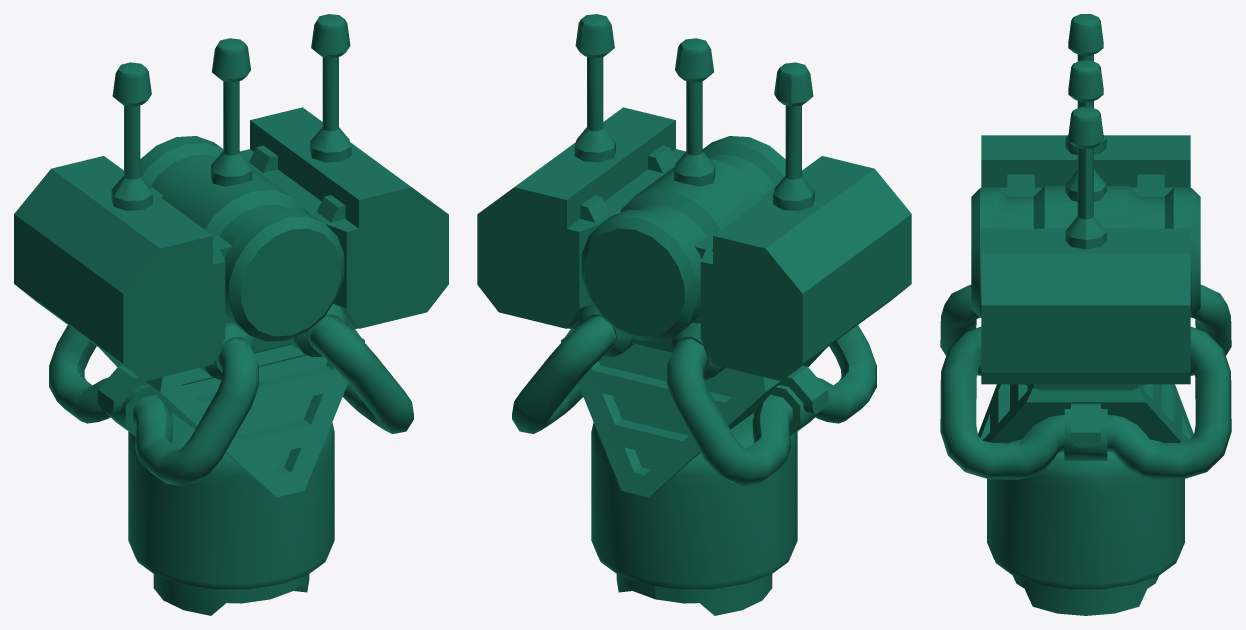
The model's file is obj_survivalobject_controlstationkey03.fbx.
3 renders of one model, left to right at view 1: azimuth 30°, elevation 25°; view 2: azimuth 150°, elevation 25°; view 3: azimuth 270°, elevation 25°, orthographic. The views are drawn at different scales.
Visible parts, largest first — view 1: part2_lp.002; view 2: part2_lp.002; view 3: part2_lp.002.
Boxes of the visible parts, <box> form: part2_lp.002: <box>14,14,448,615</box>; part2_lp.002: <box>477,14,911,615</box>; part2_lp.002: <box>940,14,1231,615</box>.
Bounding box in the file's own units: 3.64 × 5.79 × 2.94.
